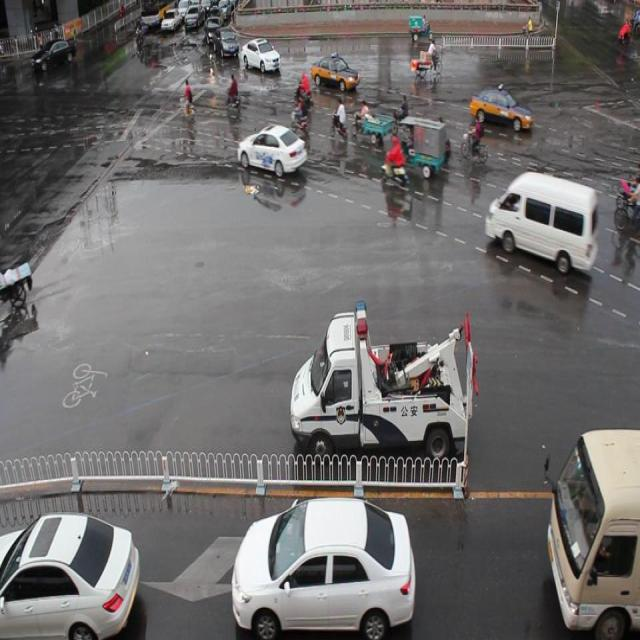bus: (291, 298, 478, 465)
car: (232, 494, 415, 640), (1, 511, 140, 640), (237, 122, 306, 178), (468, 83, 531, 133), (312, 50, 359, 93), (241, 36, 279, 75), (209, 25, 239, 60)
truck: (541, 428, 640, 640), (483, 169, 598, 275)
